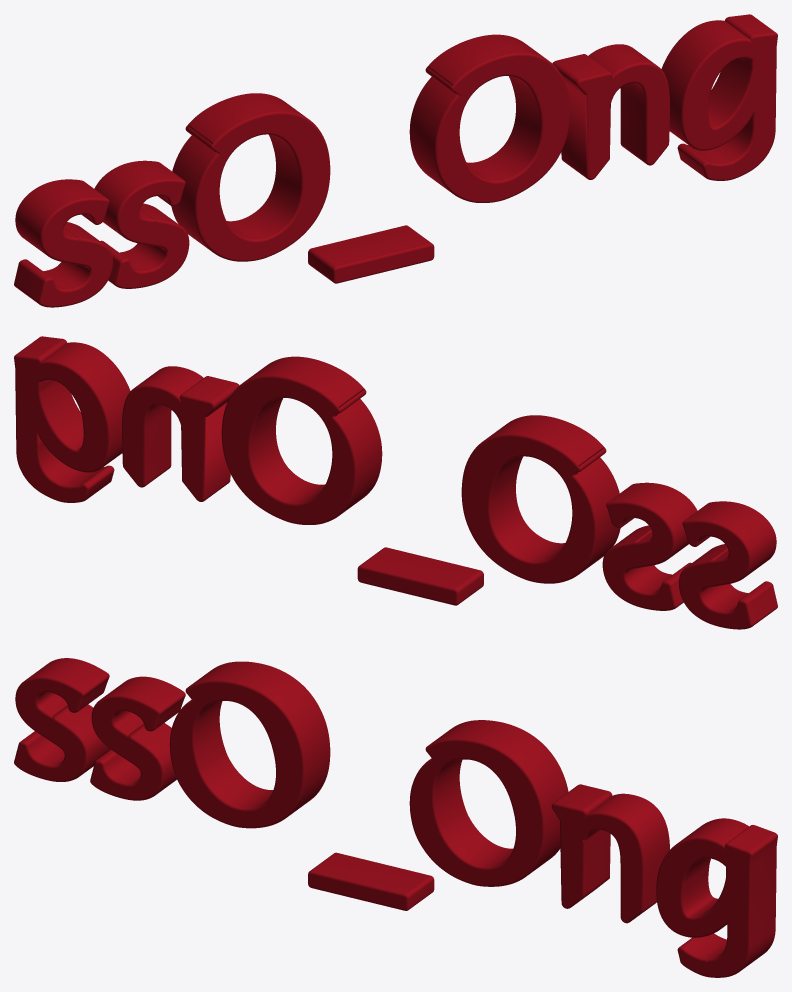
File: sso_ong.glb
The picture shows the model from 3 angles, top to bottom: view 1: azimuth 30°, elevation 25°; view 2: azimuth 150°, elevation 25°; view 3: azimuth 330°, elevation 25°; orthographic projection.
Visible parts, largest first — view 1: Text; view 2: Text; view 3: Text.
Part boxes in pixels (bbox=[...]): Text: bbox=[14, 14, 777, 307]; Text: bbox=[14, 336, 777, 629]; Text: bbox=[14, 658, 777, 977].
Bounding box in the file's own units: 3.49 × 0.8469 × 0.22.
